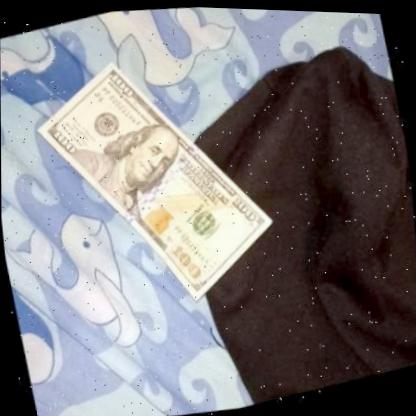one_hundred-front: (18, 24, 292, 341)
